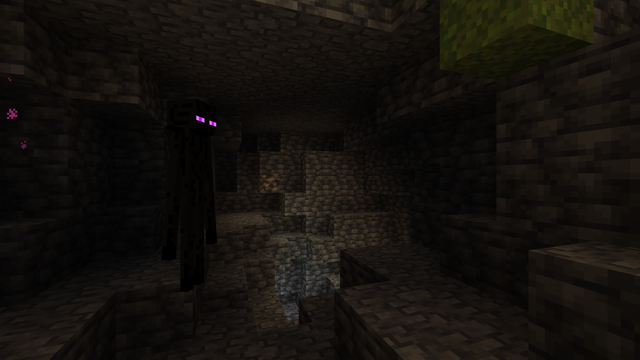endermens: (166, 90, 213, 292)
